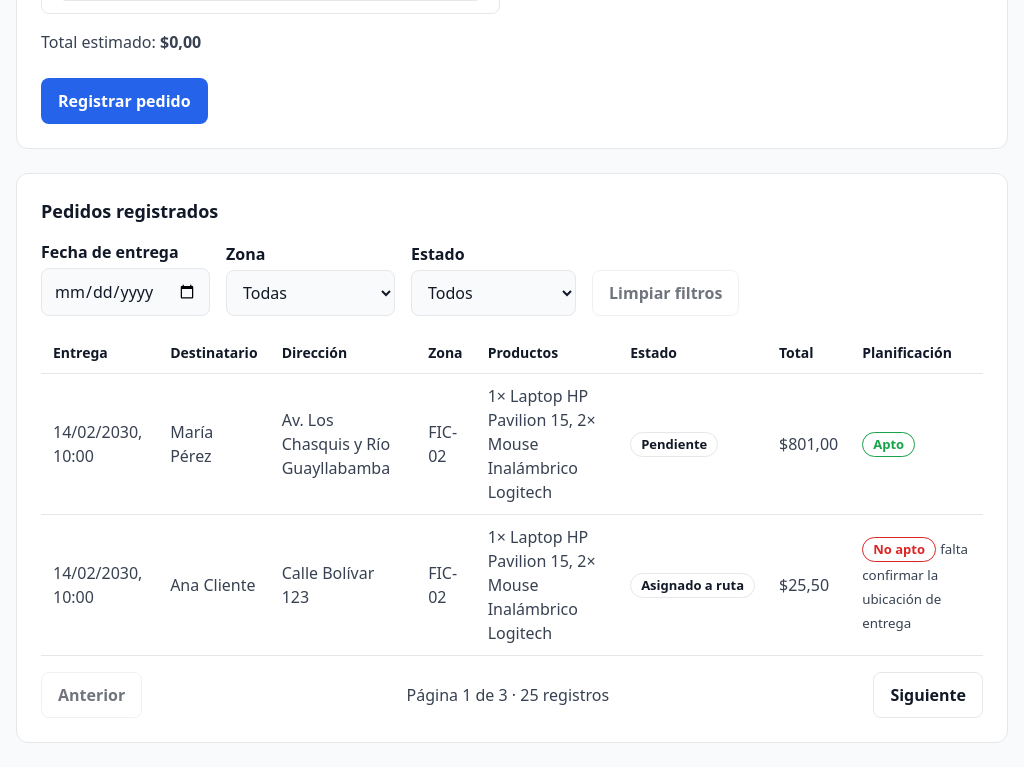
it: OrdersPage · listado › pagina el listado pidiendo cada página al backend
(page scrolled)
Expected: the text "Página 1 de 3 · 25 registros" is shown, x1=406 y1=683 x2=609 y2=707
Click the button "Siguiente" at (928, 695), box x1=873 y1=672 x2=983 y2=718
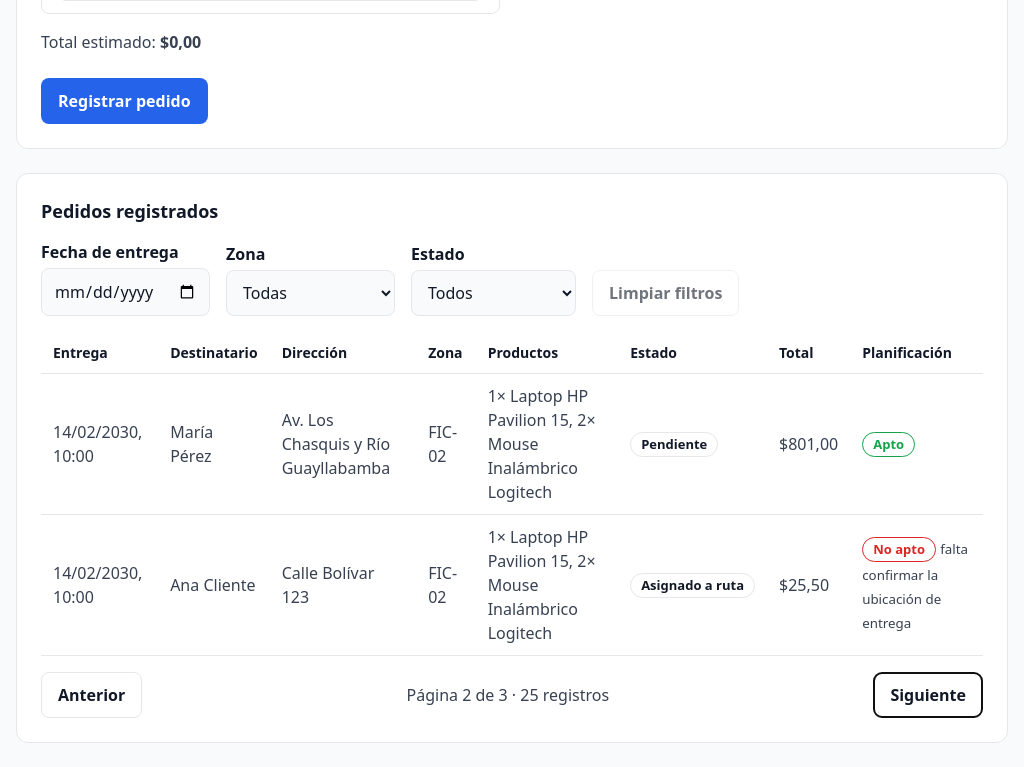
Expected: the text "Página 2 de 3 · 25 registros" is shown, x1=406 y1=683 x2=609 y2=707
